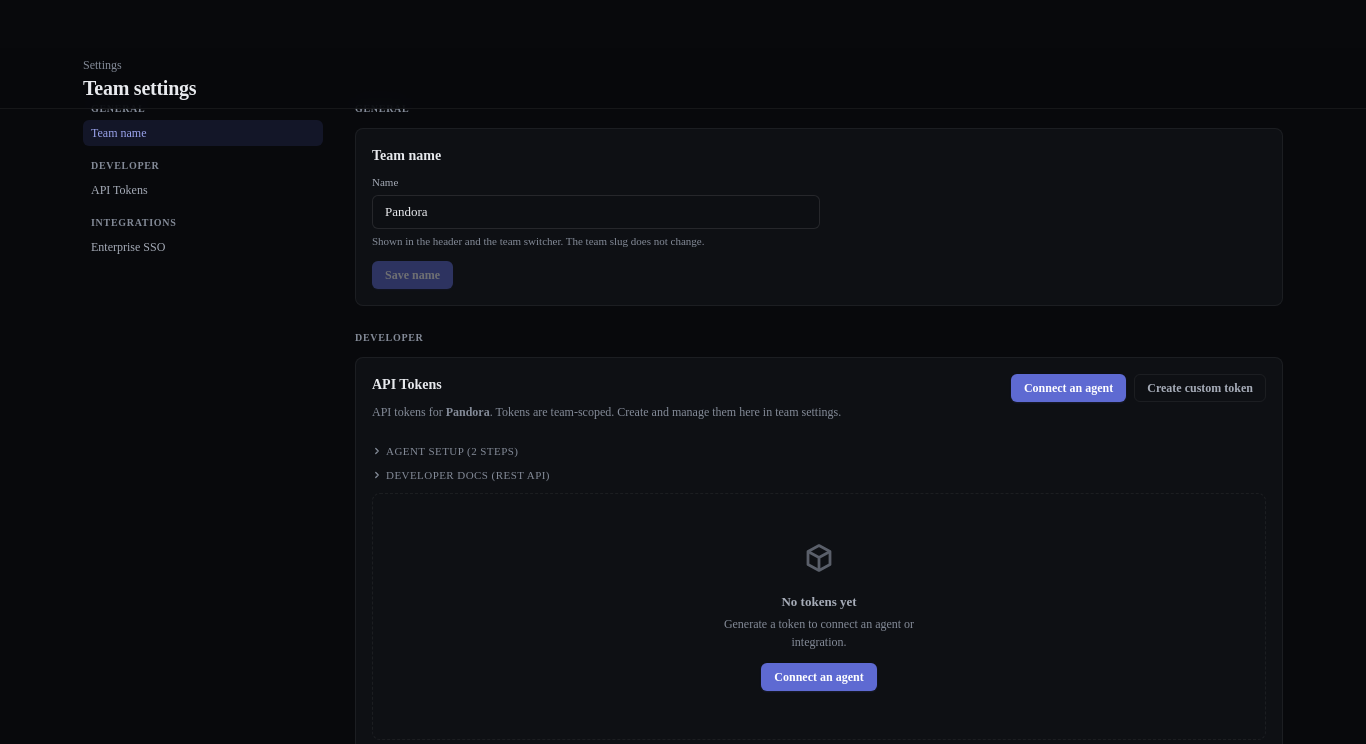
Test: team name card: saving › shows the server's message on failure, keeps the old name and does not reload the list
Expected: the heading "Team name" is shown, [372,148,441,163]
Replace the text in the field labelled "Name" with "Pandora Labs" at (596, 212), box [372,194,820,228]
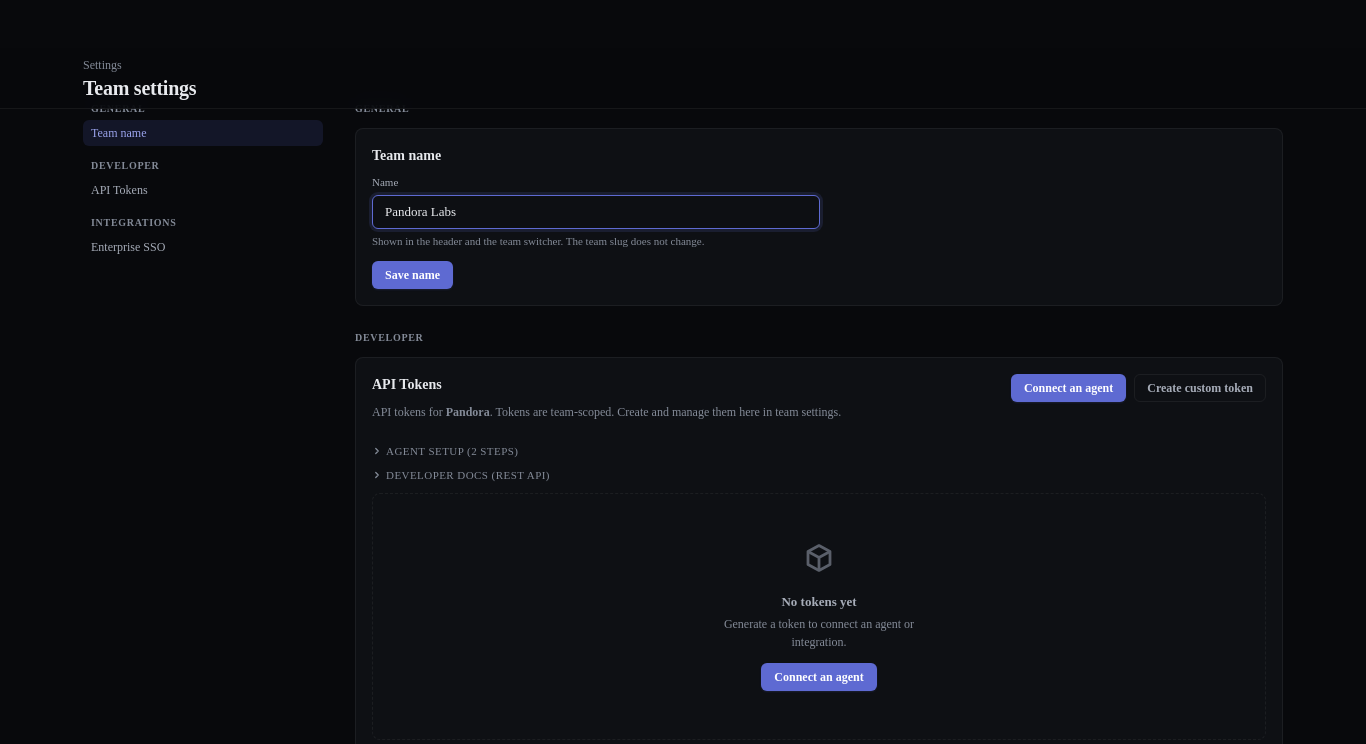
Click the button "Save name" at (412, 275), box [372,261,453,289]
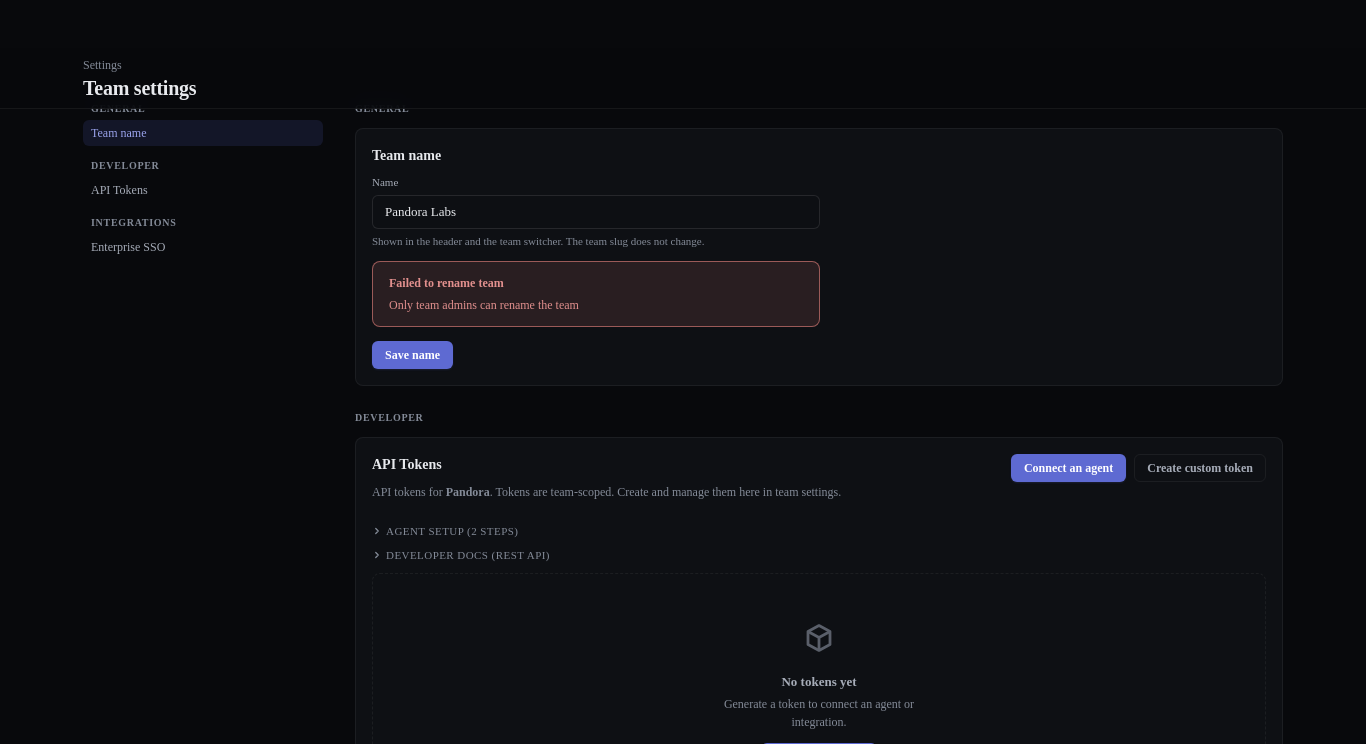
Result: the button "Save name" is enabled at [372,341,453,369]
Result: the message shows "Failed to rename team" at [389,276,504,290]
Result: the message shows "Only team admins can rename the team" at [389,298,579,312]
